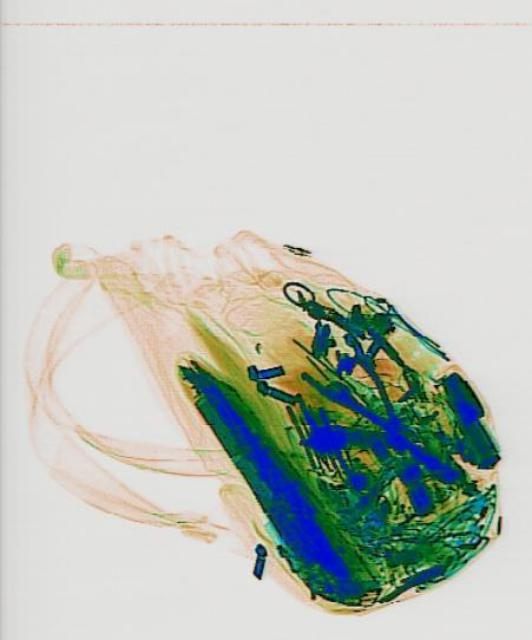Pliers: (296, 323, 429, 467)
